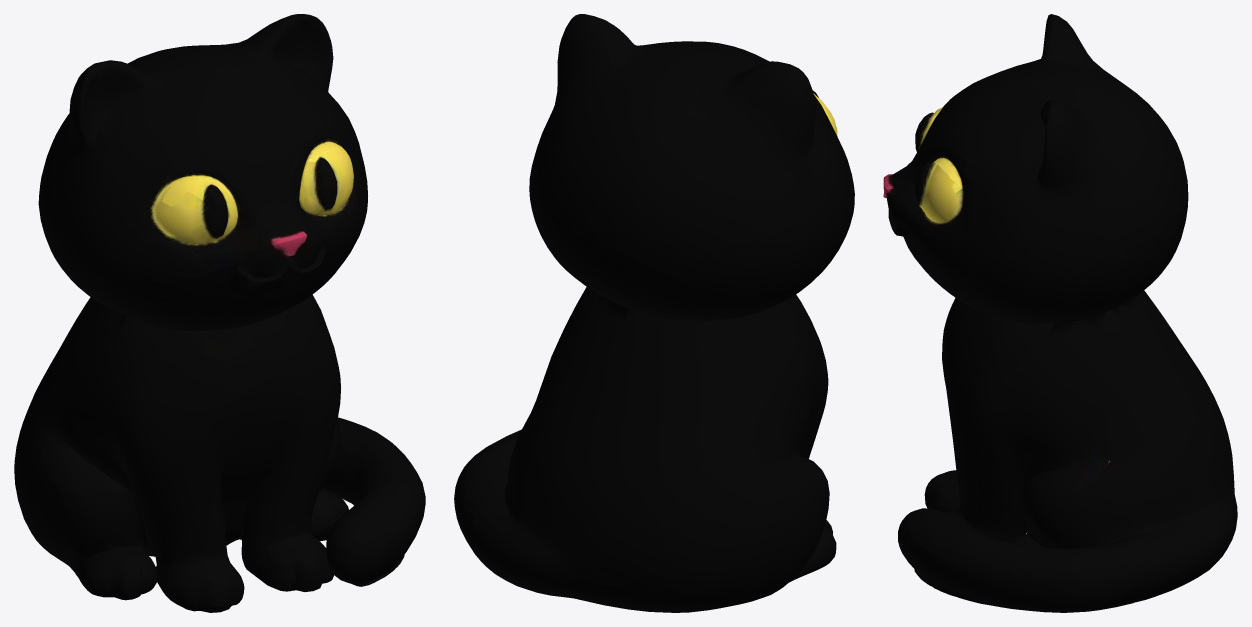
Rendered from x-cat.glb.
3 views of the same model, side by side, from view 1: azimuth 30°, elevation 25°; view 2: azimuth 150°, elevation 25°; view 3: azimuth 270°, elevation 25° (orthographic). The views are drawn at different scales.
Visible parts, largest first — view 1: geometry_0; view 2: geometry_0; view 3: geometry_0.
Boxes of the visible parts, box(x1,y1,x2,y2) form: geometry_0: box(14, 14, 425, 612); geometry_0: box(454, 14, 854, 612); geometry_0: box(883, 14, 1237, 612).
Bounding box in the file's own units: 0.1088 × 0.15 × 0.1026.
1 material, 1 textured.
